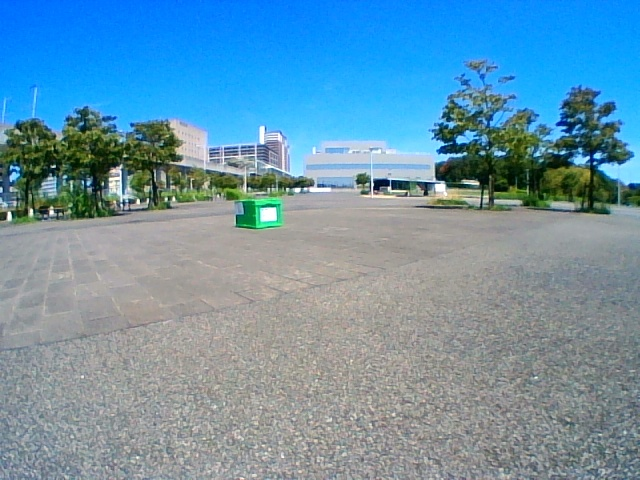green_box: (235, 199, 282, 229)
tag: (235, 201, 244, 214)
